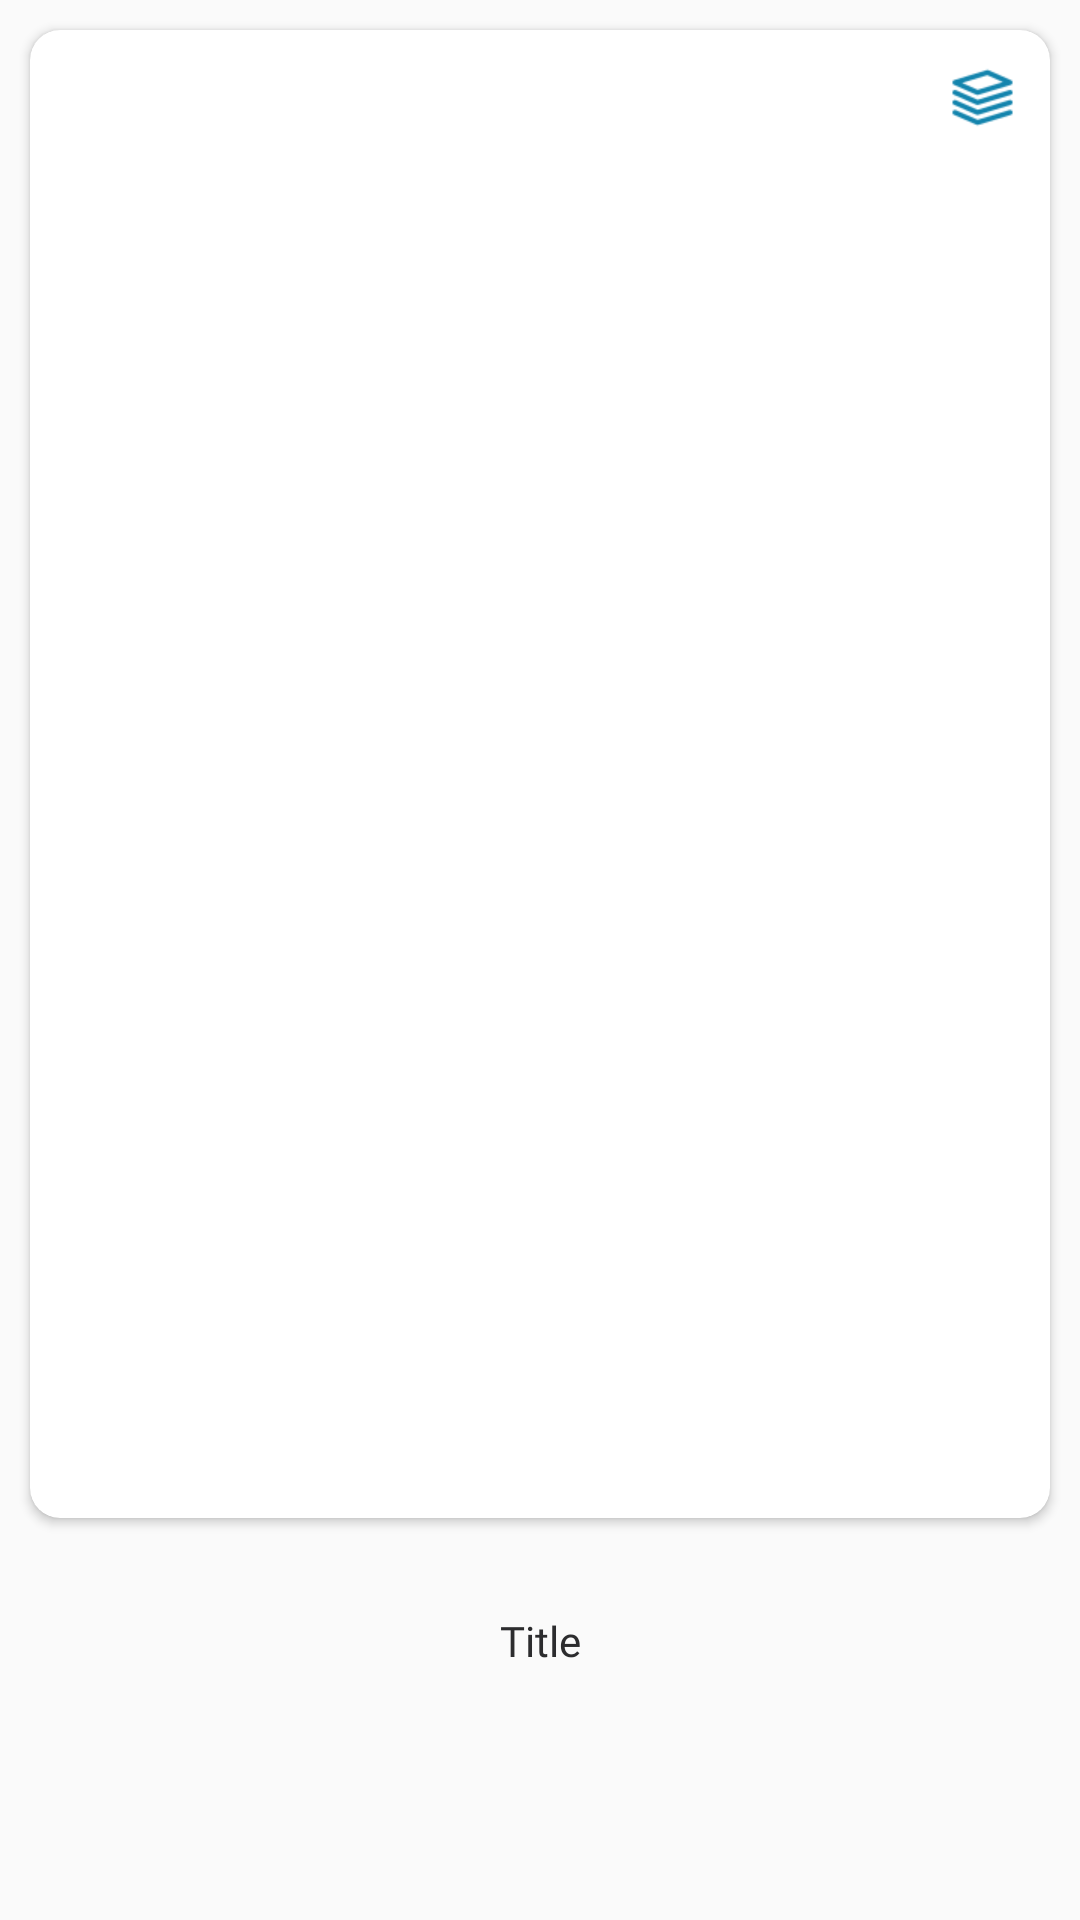

Screen size 1080px x 1920px. Icon name, then its box in pixels as [x1,y1,x2,y2]:
multiple: [952,69,1013,126]
